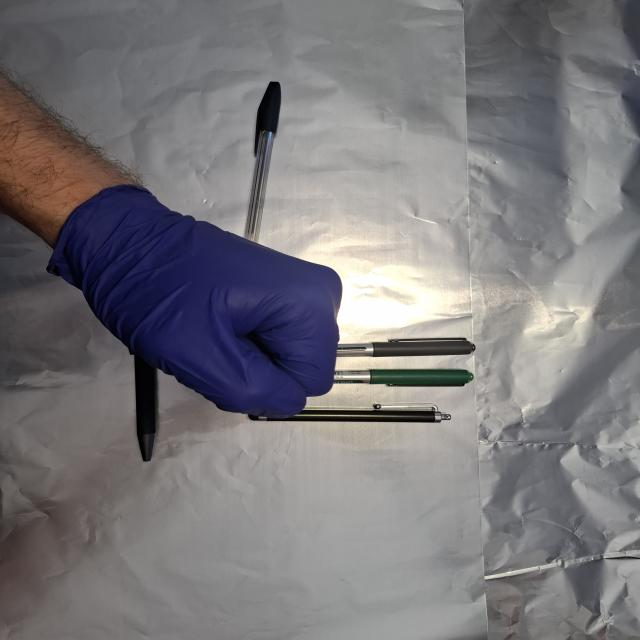glove_on: (44, 182, 348, 423)
